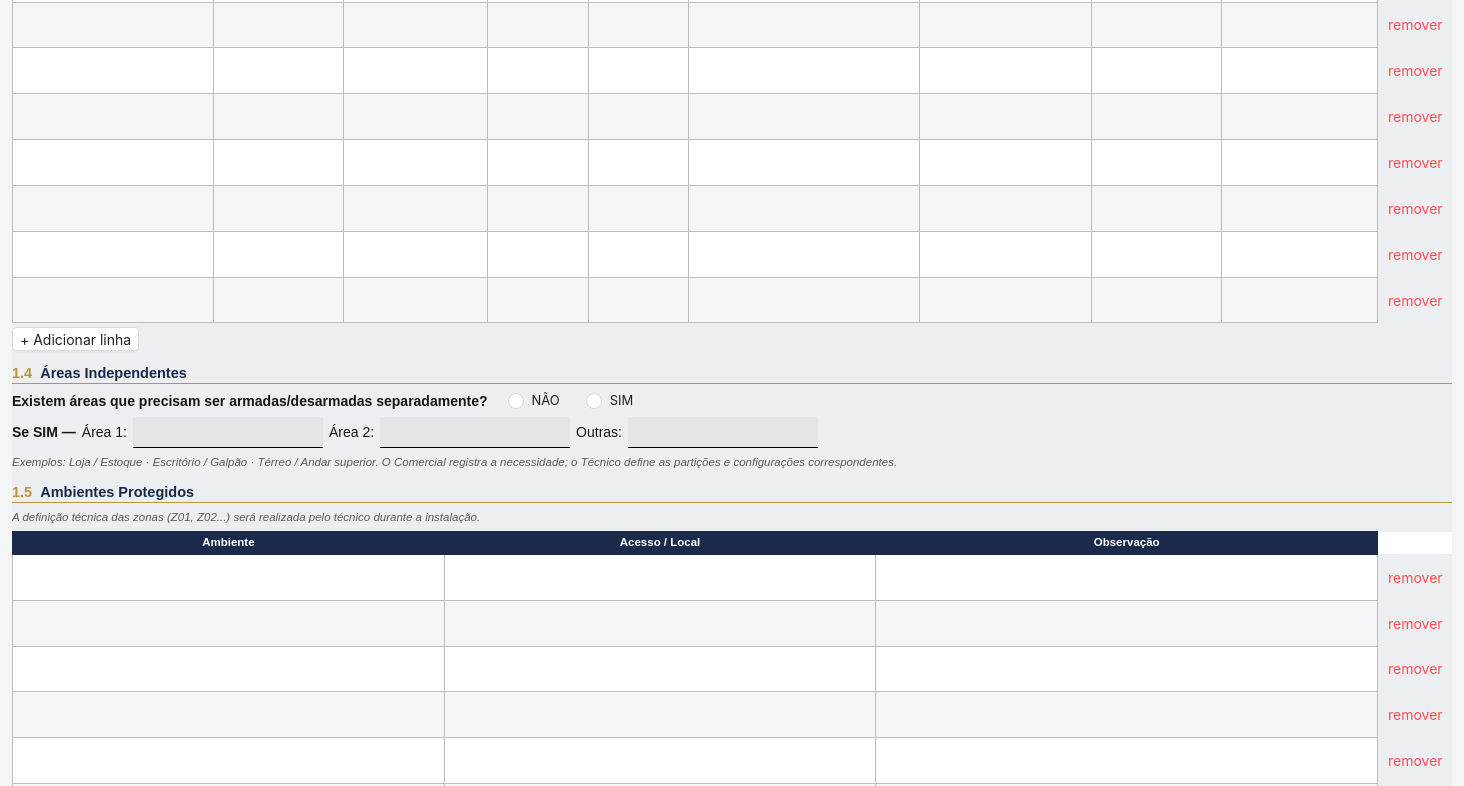
Test: Etapa 1 — campos condicionais › nomes das áreas da 1.4 só são habilitados com SIM
This screenshot has width=1464, height=786.
(page scrolled)
Expected: the field named "Área 1" is disabled, [133,417,323,448]
Click the radio button labelled "NÃO" at (538, 401), box [508,390,568,411]
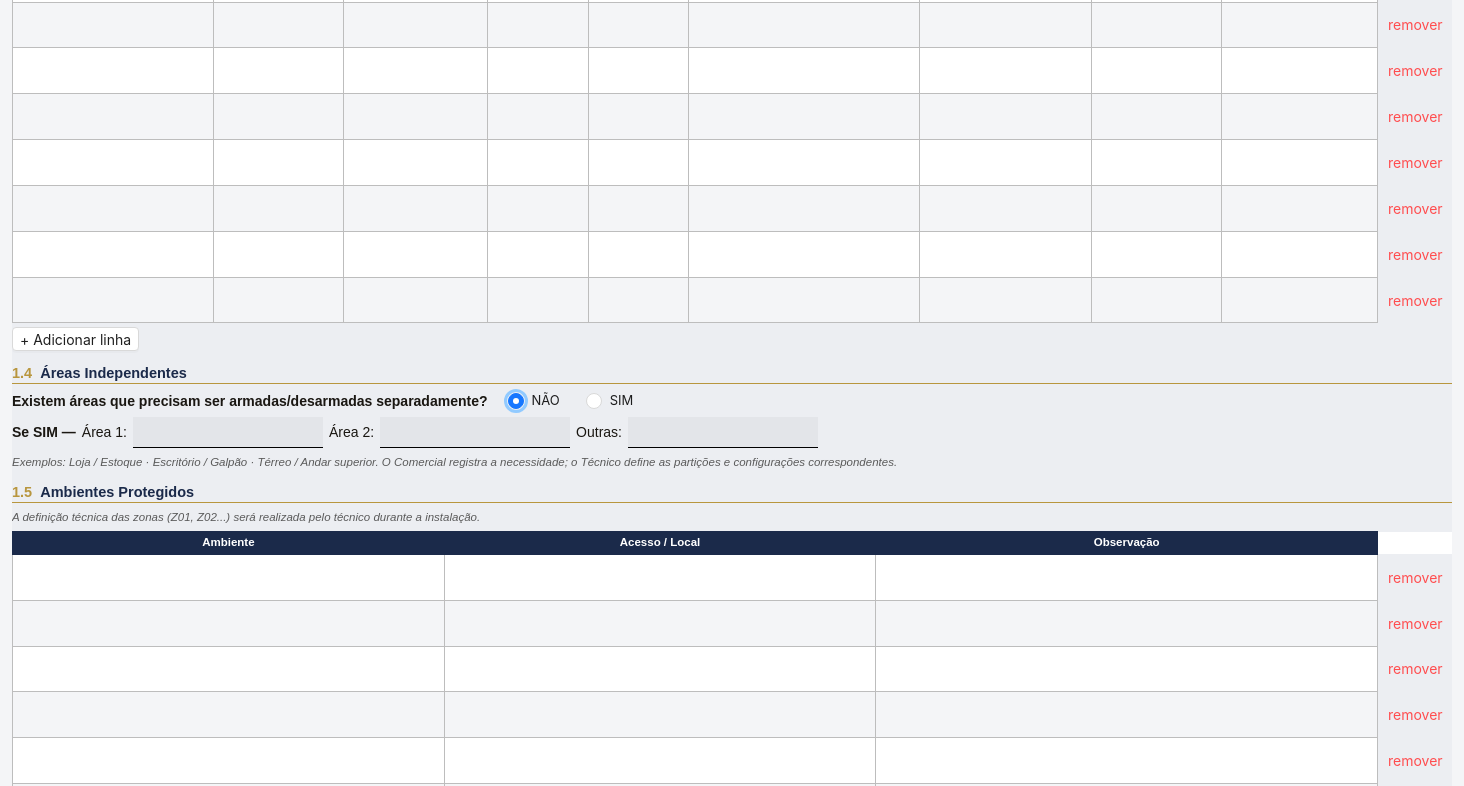
Expected: the field named "Área 1" is disabled, [133,417,323,448]
Click the radio button labelled "SIM" at (614, 401), box [586,390,641,411]
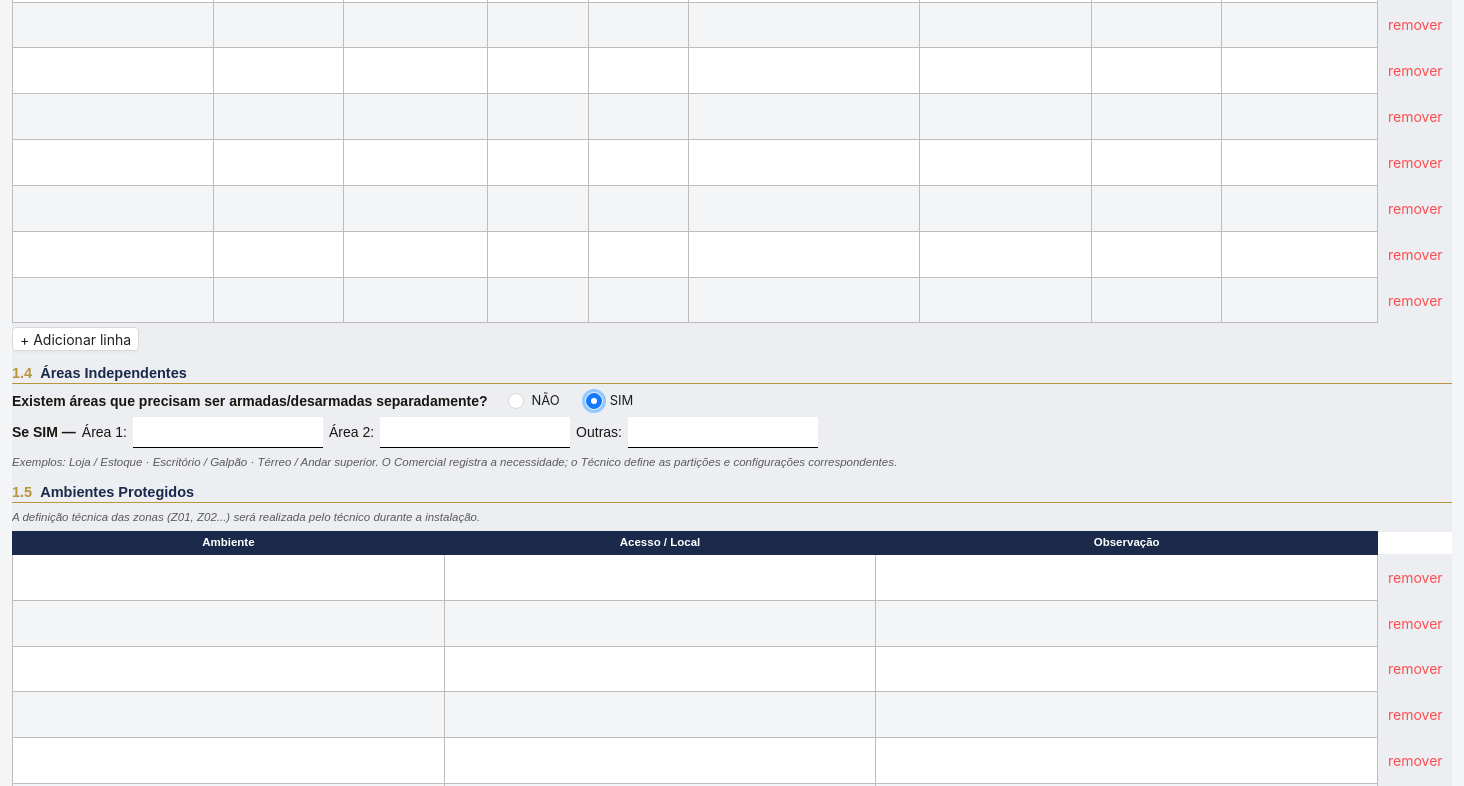
Result: the field named "Área 1" is enabled at [133,417,323,448]
Result: the field named "Área 2" is enabled at [380,417,570,448]
Result: the field named "Outras áreas" is enabled at [628,417,818,448]
